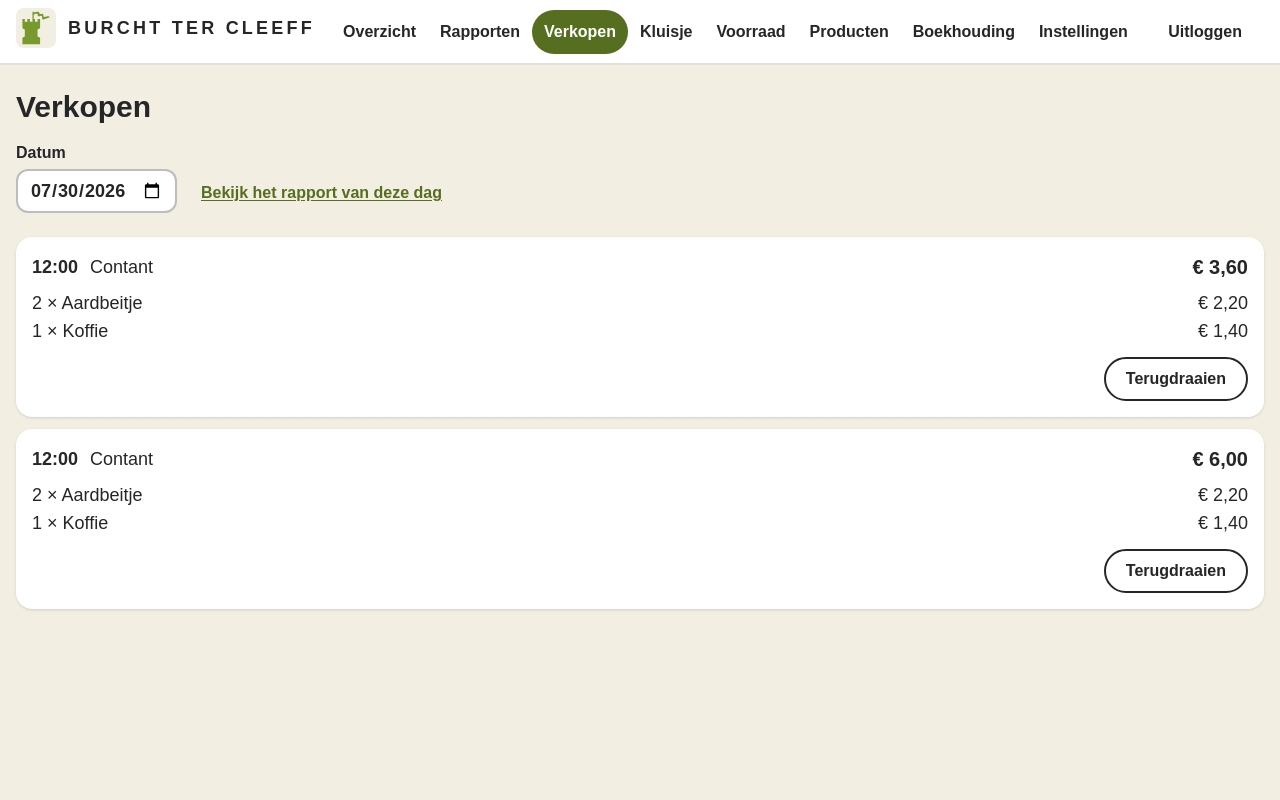
Test: reverses a sale with a reason
Click the button "Terugdraaien" below "€ 3,60" at {"x": 1176, "y": 379}, box [1104, 357, 1248, 401]
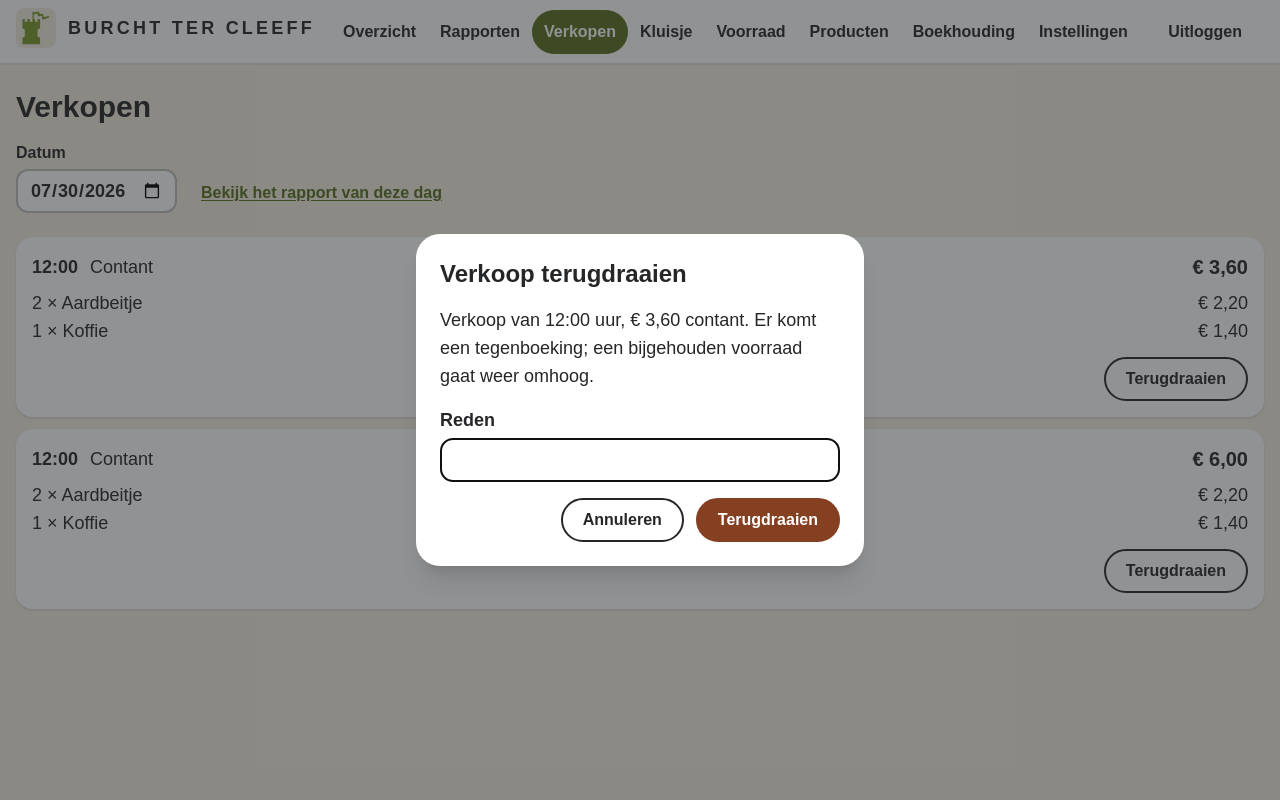
Click the button "Terugdraaien" at {"x": 768, "y": 520}, box [696, 498, 840, 542]
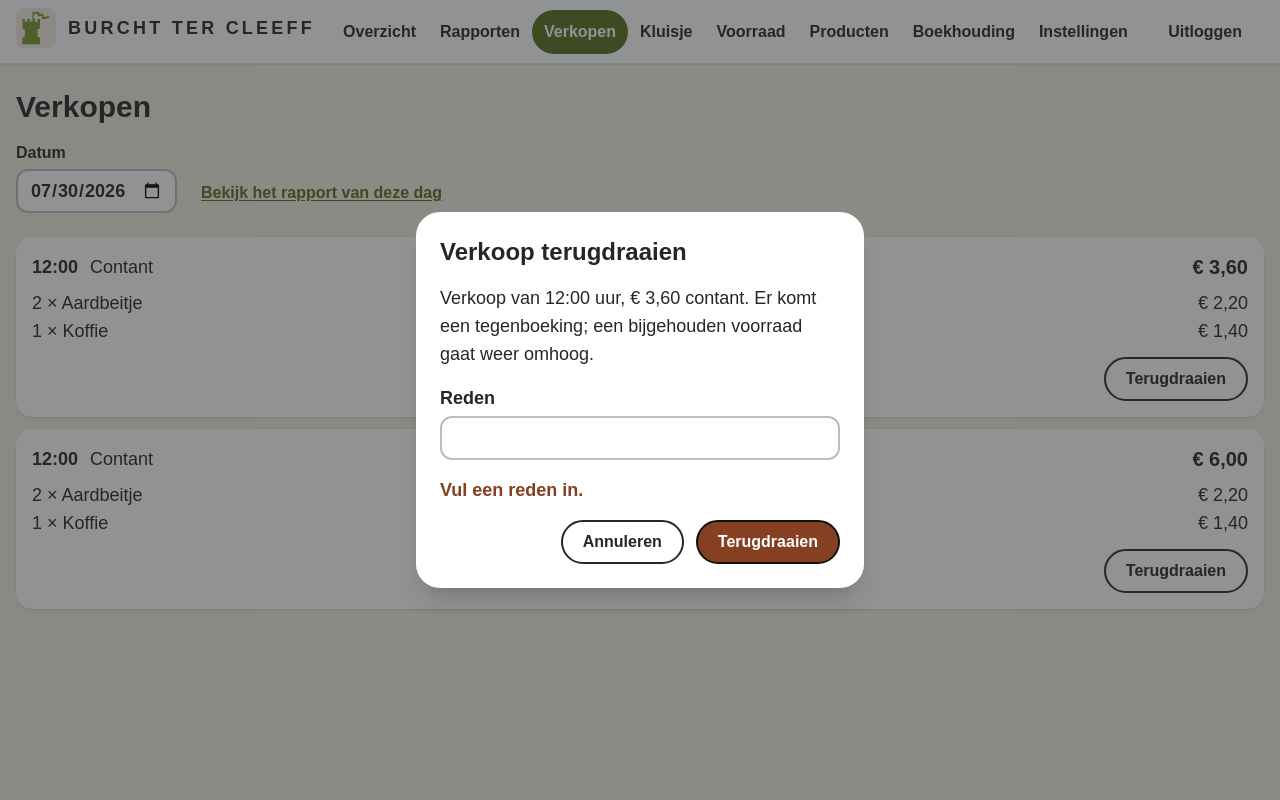
expect the text "Vul een reden in." is shown: met, box [440, 480, 583, 500]
Type "dubbel aangeslagen" into the field labelled "Reden" at {"x": 640, "y": 438}, box [440, 416, 840, 460]
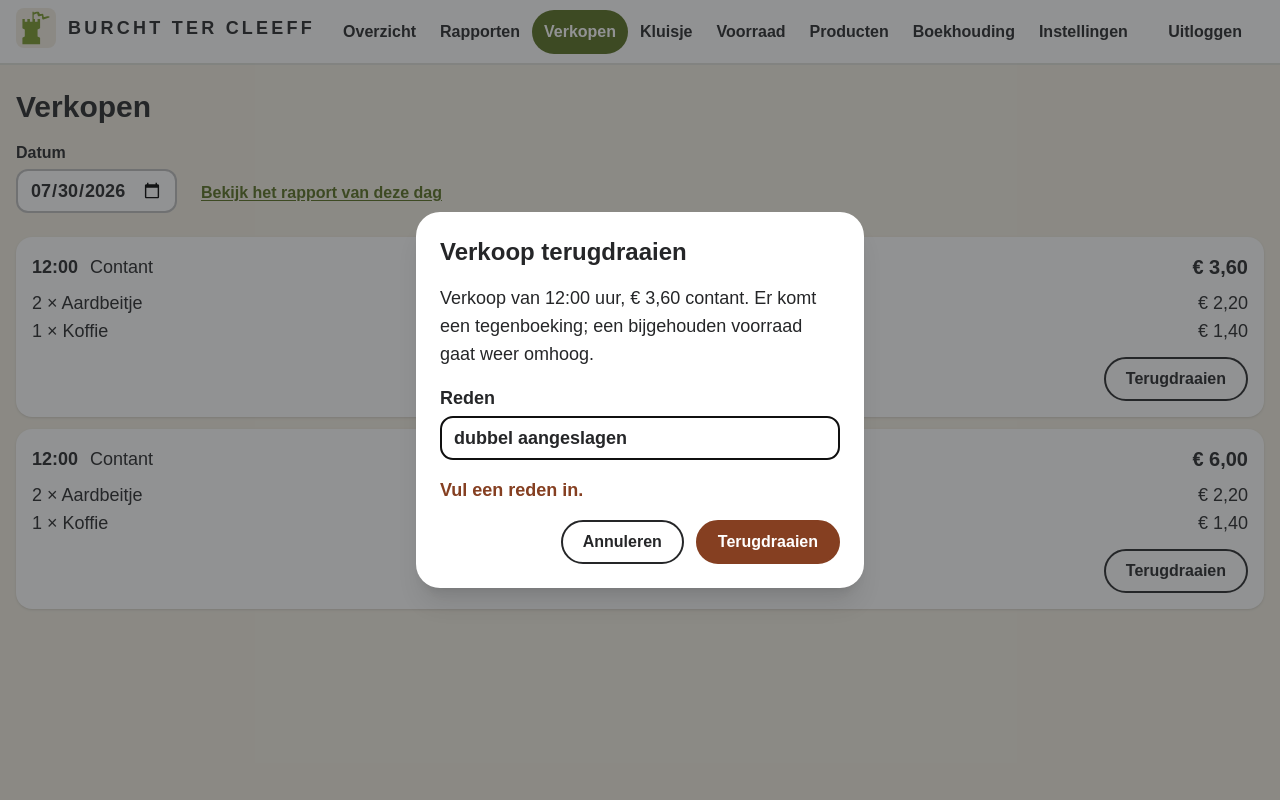
Click the button "Terugdraaien" at {"x": 768, "y": 542}, box [696, 520, 840, 564]
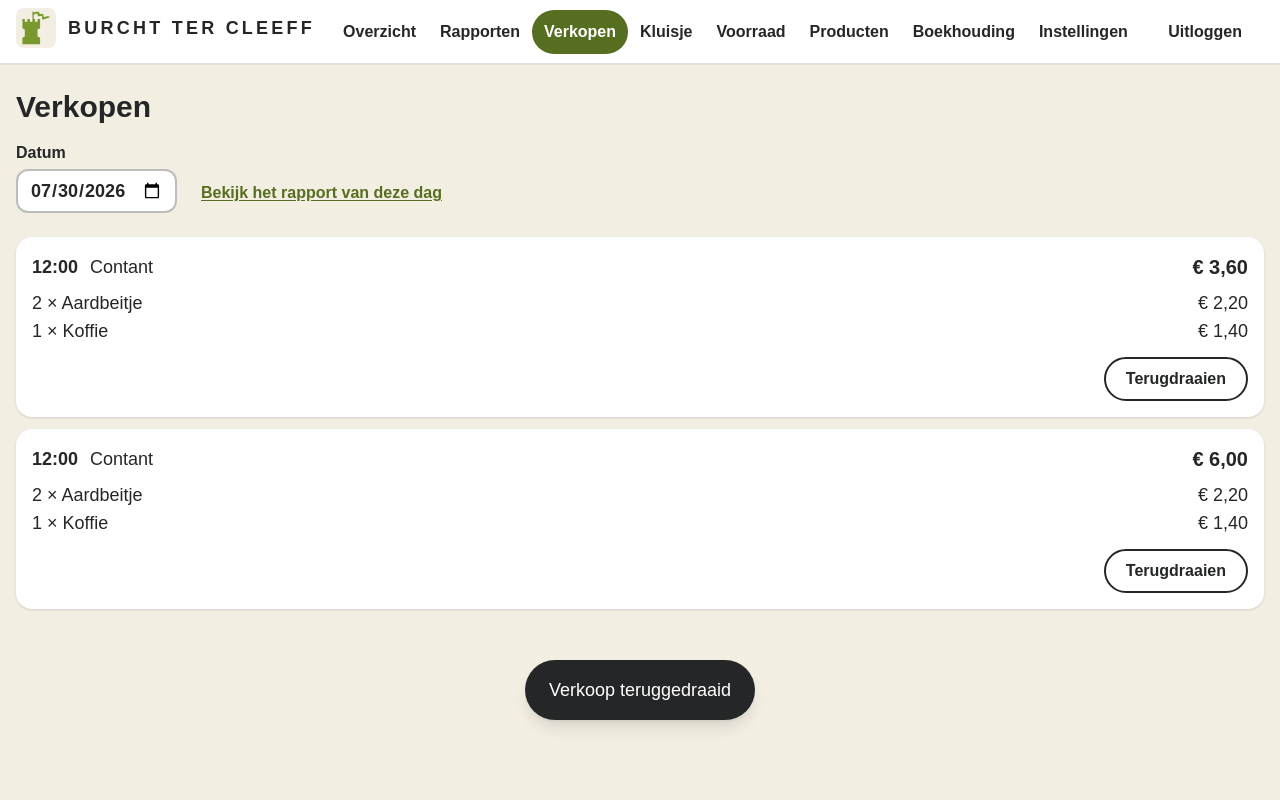
expect the text "Verkoop teruggedraaid" is shown: met, box [549, 680, 731, 700]
expect the dialog is gone: met
